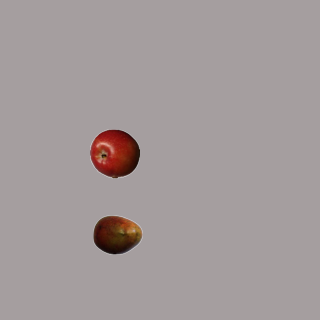Apple Braeburn: (89, 128, 139, 178)
Mango Red: (92, 209, 142, 259)
